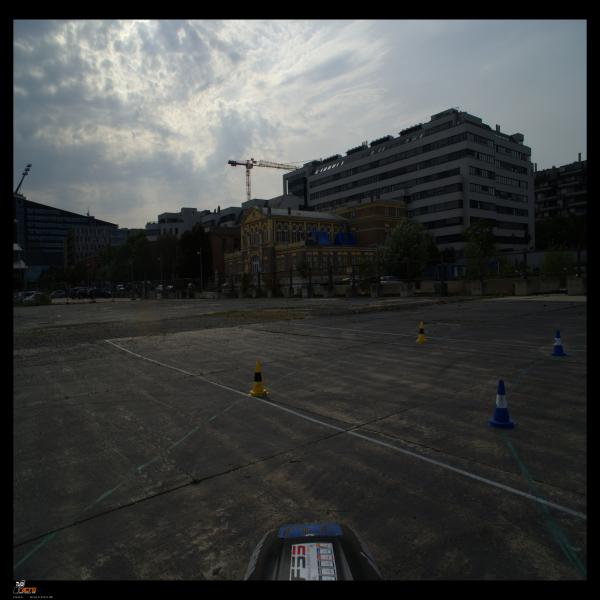blue_cone: (487, 380, 516, 429), (548, 330, 569, 357)
yellow_cone: (248, 361, 269, 397), (415, 322, 428, 343)
